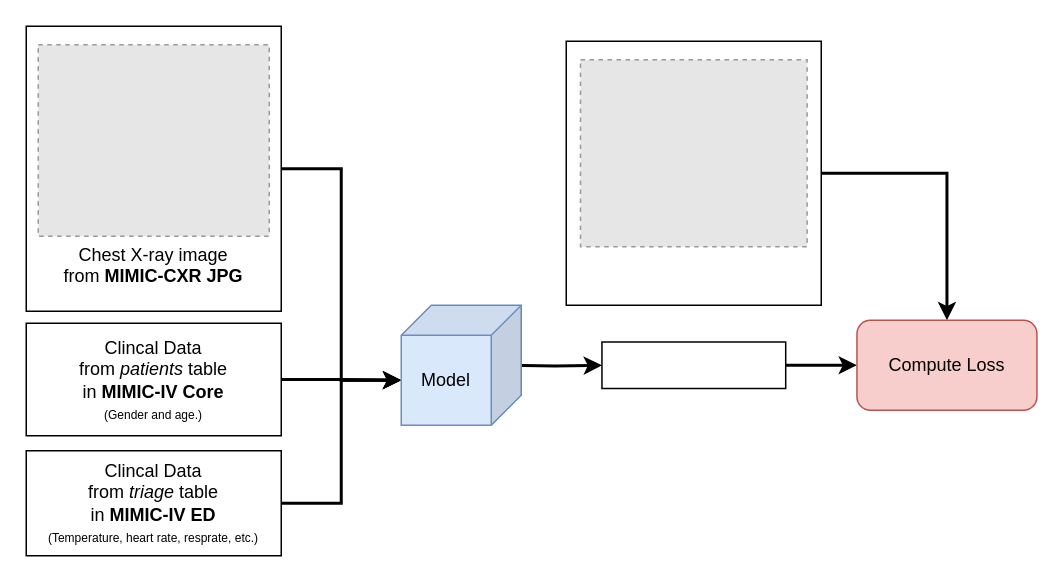
The diagram is 1064 pixels wide and 582 high, and some of its shapes have lost their labels. Grey dashed boxes stand in for pictures. Each missing label, with the box of its shape:
Lesions bounding boxes from REFLACX dataset.: (565, 40, 821, 305)
Prediction: (600, 340, 786, 388)
